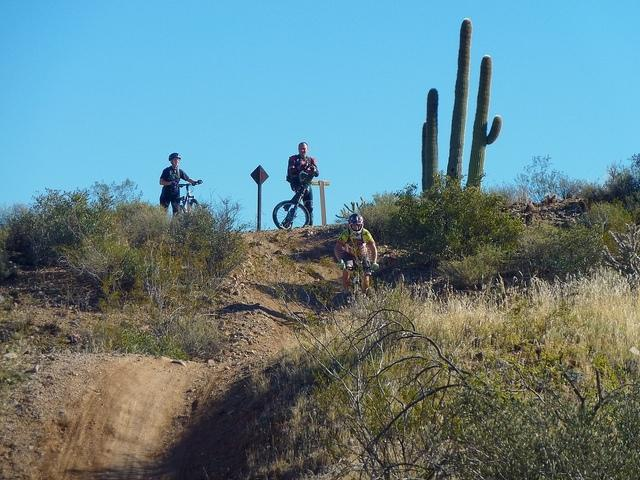non-vehicle: (273, 176, 309, 229), (339, 263, 371, 304), (174, 179, 200, 219)
